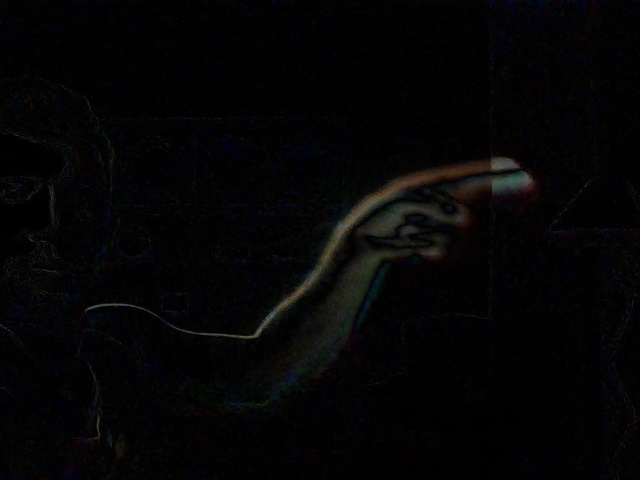hand_po: (339, 146, 543, 263)
